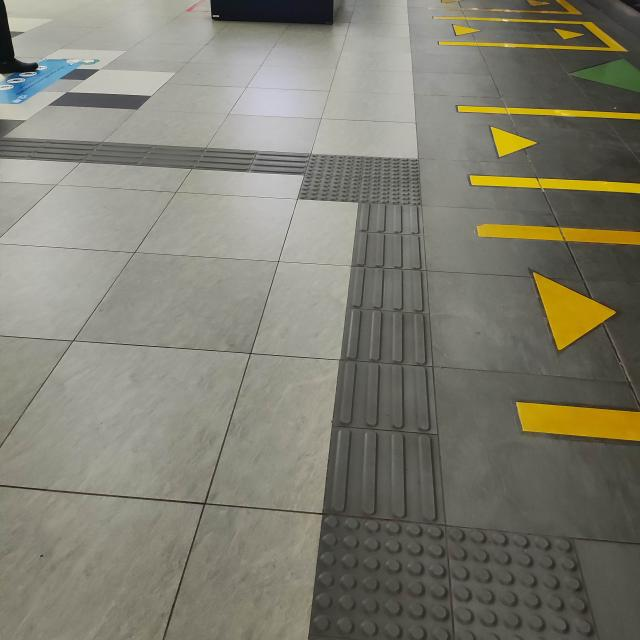kiri: (234, 118, 469, 253)
